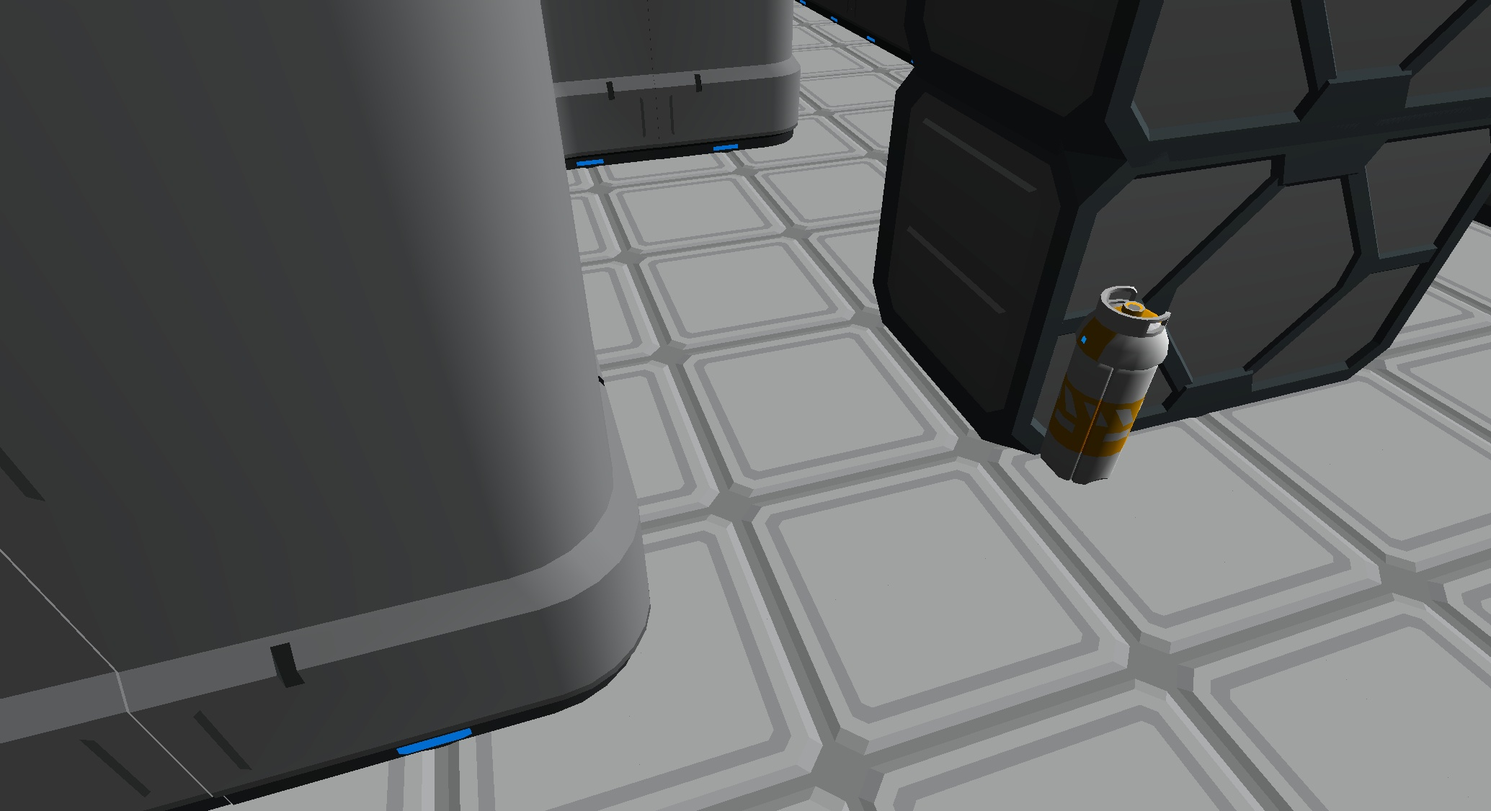yellow_barrel: (1042, 286, 1170, 483)
